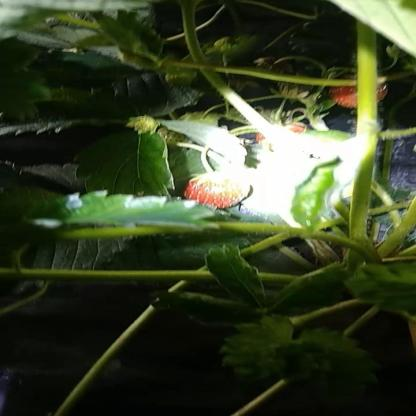ripe: (180, 173, 254, 208), (250, 118, 324, 152), (328, 73, 392, 109)
